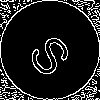S: (25, 25, 82, 81)
